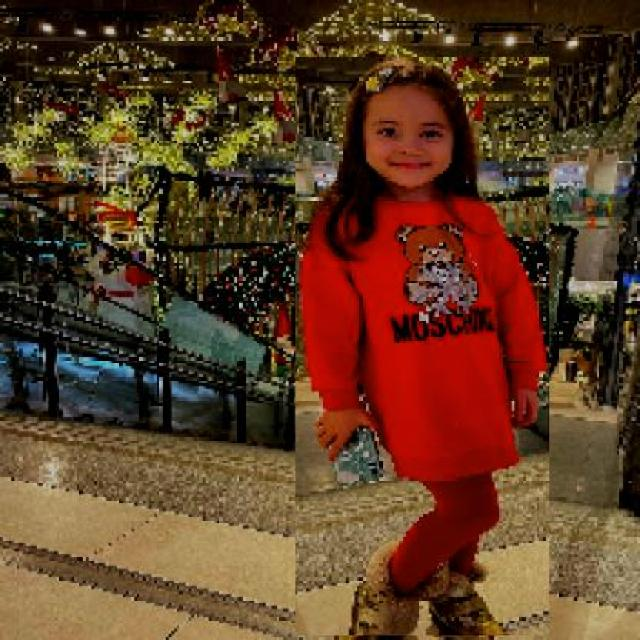child: (294, 57, 549, 637)
